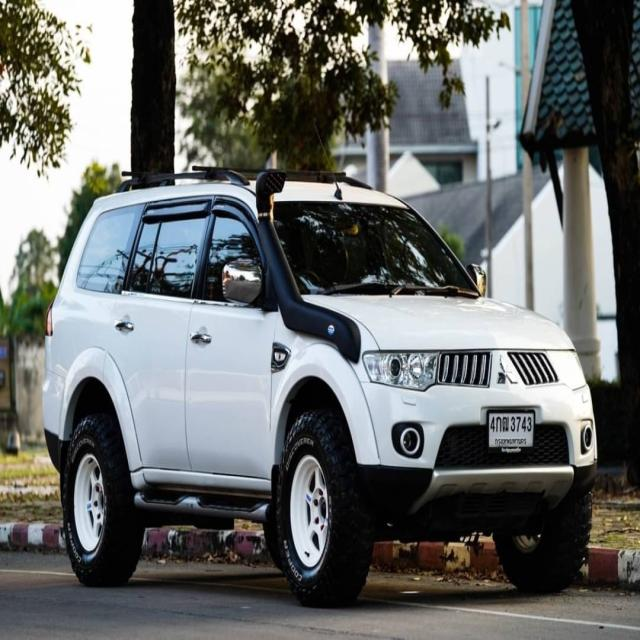license_plate: (482, 394, 539, 464)
